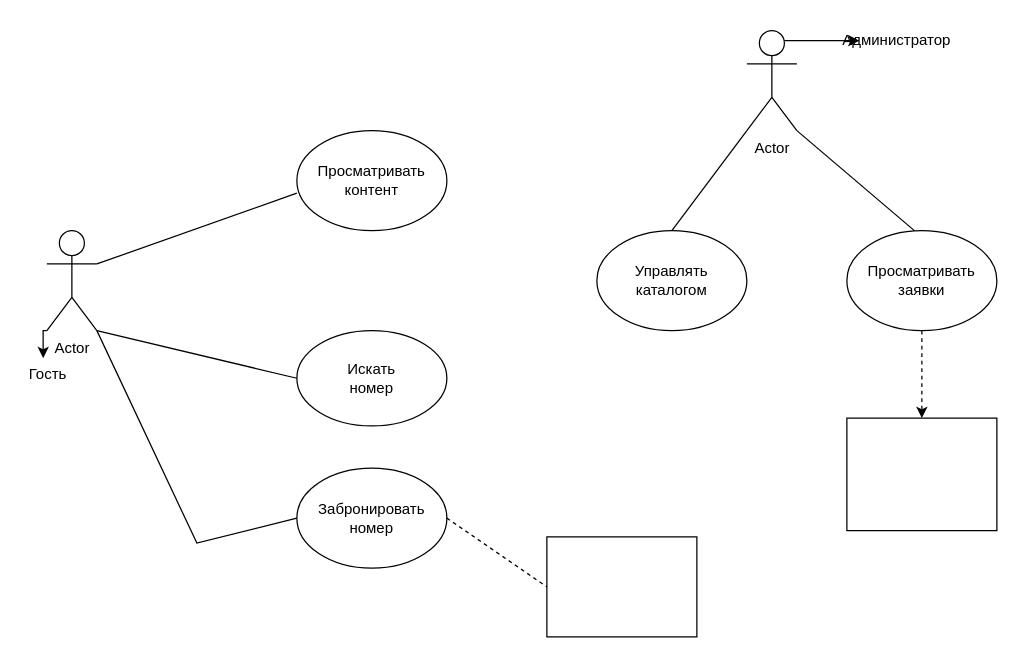
Image size: 1019x659. Some labels were removed from this diagram. Here are the shapes that lost their labels. From the top down, the centre of each, then its label:
At (921,474): "Изменить статус заявки".
At (621,586): "Ввести данные и даты".
